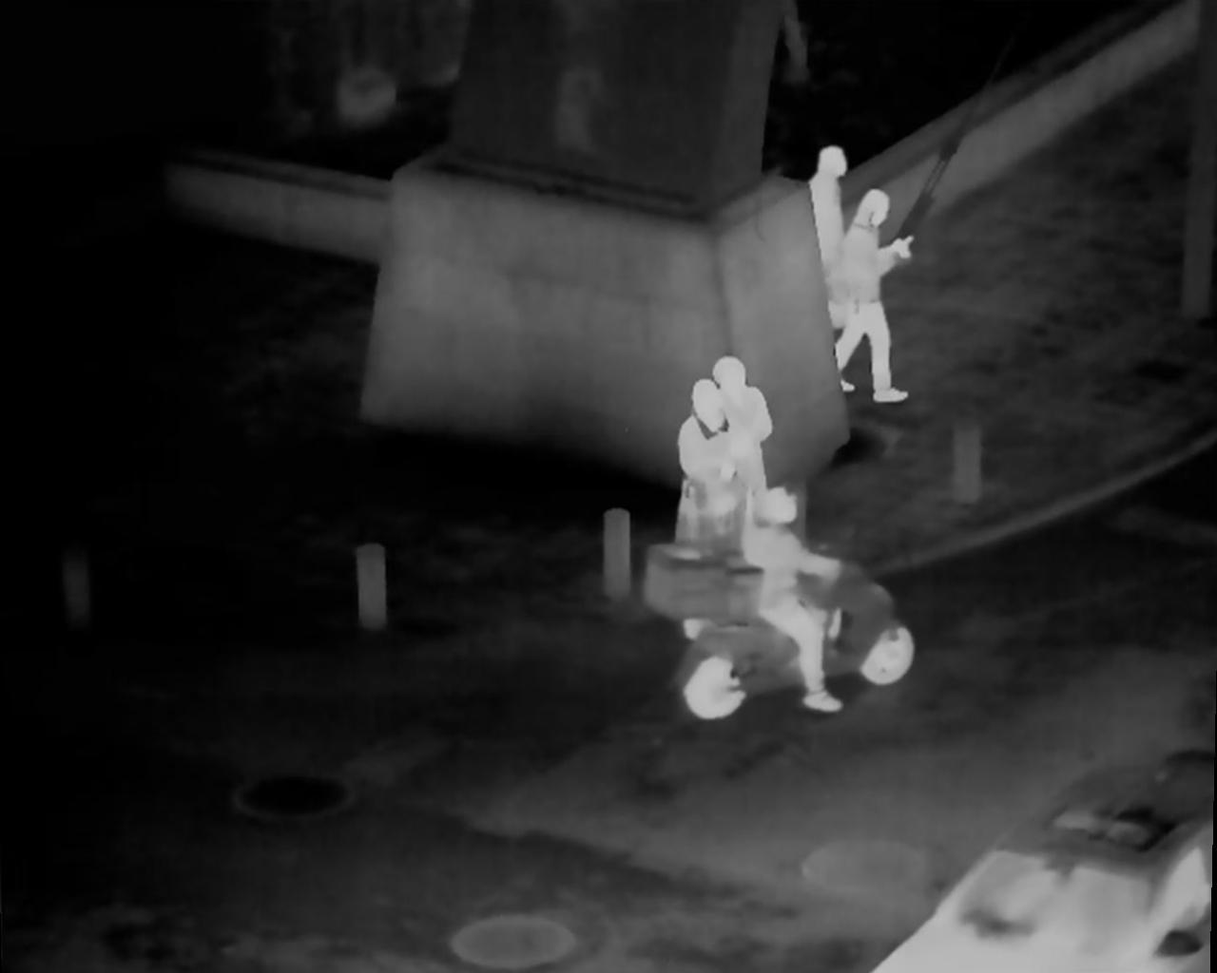person: (742, 481, 860, 712), (834, 189, 912, 410), (713, 357, 777, 544), (675, 377, 733, 552), (799, 145, 846, 344)
